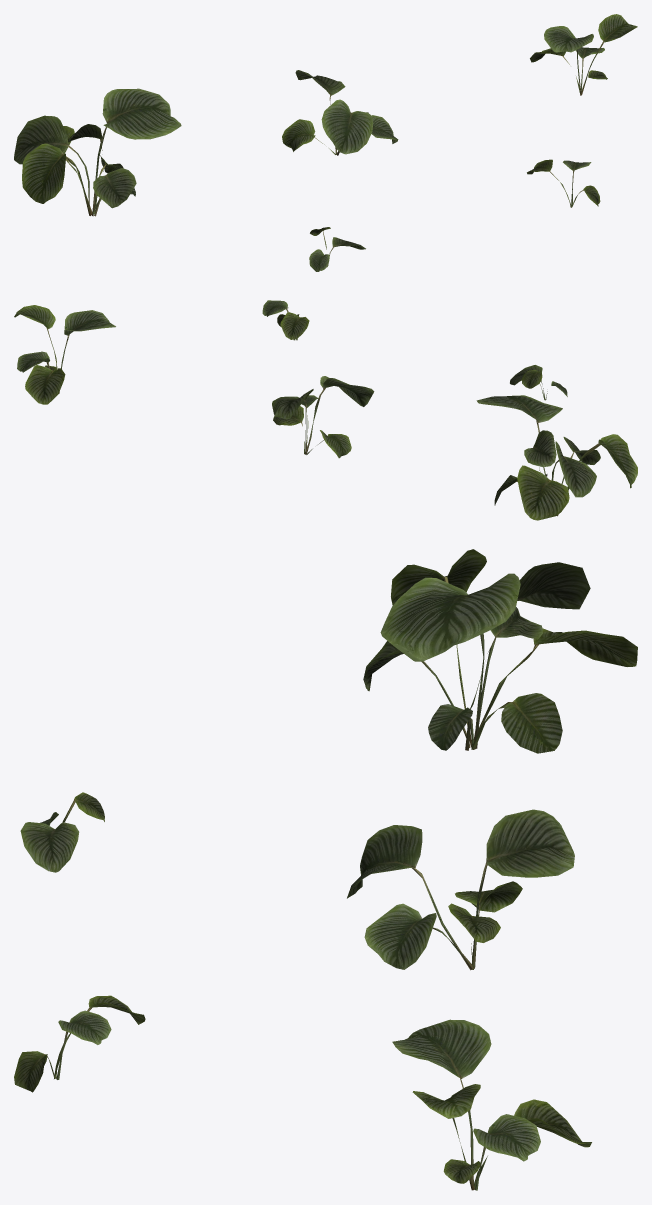
File: calathea.glb
3 views of the same model, one above another, from view 1: azimuth 30°, elevation 25°; view 2: azimuth 150°, elevation 25°; view 3: azimuth 270°, elevation 25° (orthographic). The views are drawn at different scales.
Parts seen in each view (by area): view 1: calathea_orbifolia_01_a, calathea_orbifolia_01_b, calathea_orbifolia_01_c, calathea_orbifolia_01_e, calathea_orbifolia_01_d; view 2: calathea_orbifolia_01_a, calathea_orbifolia_01_c, calathea_orbifolia_01_b, calathea_orbifolia_01_e, calathea_orbifolia_01_d; view 3: calathea_orbifolia_01_a, calathea_orbifolia_01_b, calathea_orbifolia_01_c, calathea_orbifolia_01_e, calathea_orbifolia_01_d.
Part boxes in pixels (box(x1,y1,x2,y2)): calathea_orbifolia_01_a: box(14, 88, 181, 216); calathea_orbifolia_01_b: box(282, 70, 398, 155); calathea_orbifolia_01_c: box(530, 14, 637, 95); calathea_orbifolia_01_e: box(527, 159, 600, 207); calathea_orbifolia_01_d: box(309, 227, 365, 271); calathea_orbifolia_01_a: box(476, 395, 637, 520); calathea_orbifolia_01_c: box(14, 305, 115, 404); calathea_orbifolia_01_b: box(272, 376, 374, 458); calathea_orbifolia_01_e: box(262, 300, 309, 340); calathea_orbifolia_01_d: box(510, 365, 567, 400); calathea_orbifolia_01_a: box(363, 549, 637, 753); calathea_orbifolia_01_b: box(347, 809, 574, 970); calathea_orbifolia_01_c: box(392, 1019, 591, 1190); calathea_orbifolia_01_e: box(14, 995, 145, 1092); calathea_orbifolia_01_d: box(20, 792, 104, 872).
Bounding box in the file's own units: 2.49 × 0.4243 × 1.19.
Materials: 1 (1 with a texture image).
